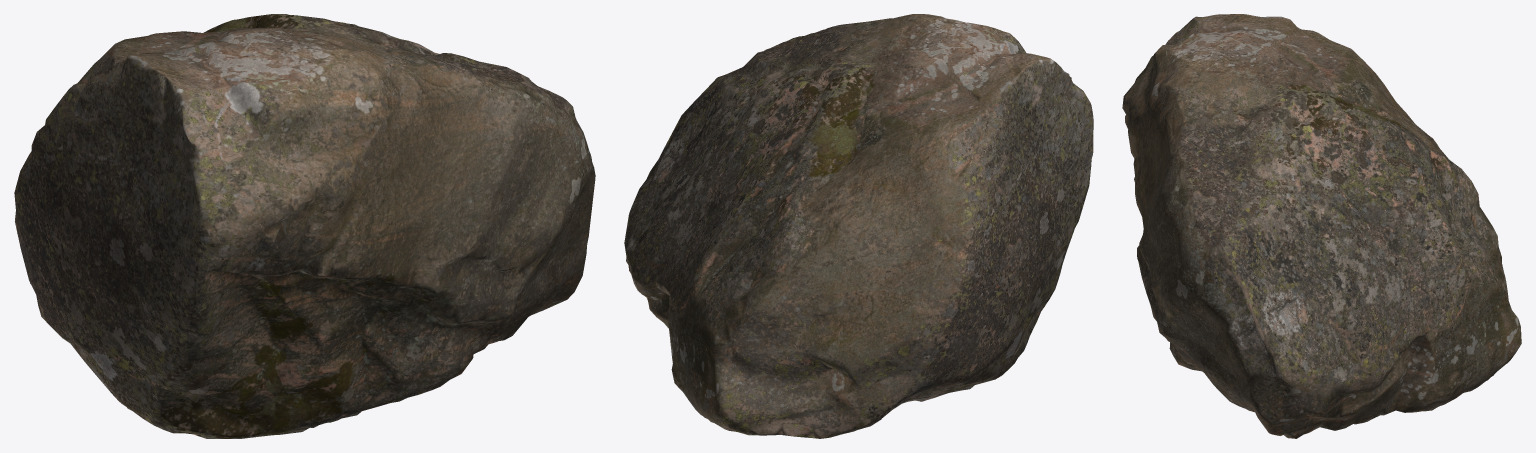
File: SM_zcgofaw_tier_2.gltf
3 renders of one model, left to right at view 1: azimuth 30°, elevation 25°; view 2: azimuth 150°, elevation 25°; view 3: azimuth 270°, elevation 25°, orthographic. The views are drawn at different scales.
Parts seen in each view (by area): view 1: zcgofaw_LOD2_TIER2_000; view 2: zcgofaw_LOD2_TIER2_000; view 3: zcgofaw_LOD2_TIER2_000.
Boxes of the visible parts, left/top/right/bottom form: zcgofaw_LOD2_TIER2_000: left=14, top=14, right=595, bottom=438; zcgofaw_LOD2_TIER2_000: left=624, top=14, right=1093, bottom=438; zcgofaw_LOD2_TIER2_000: left=1122, top=14, right=1521, bottom=438.
Size of the model in its own units: 1.58 by 1.22 by 1.46.
1 material, 1 textured.
